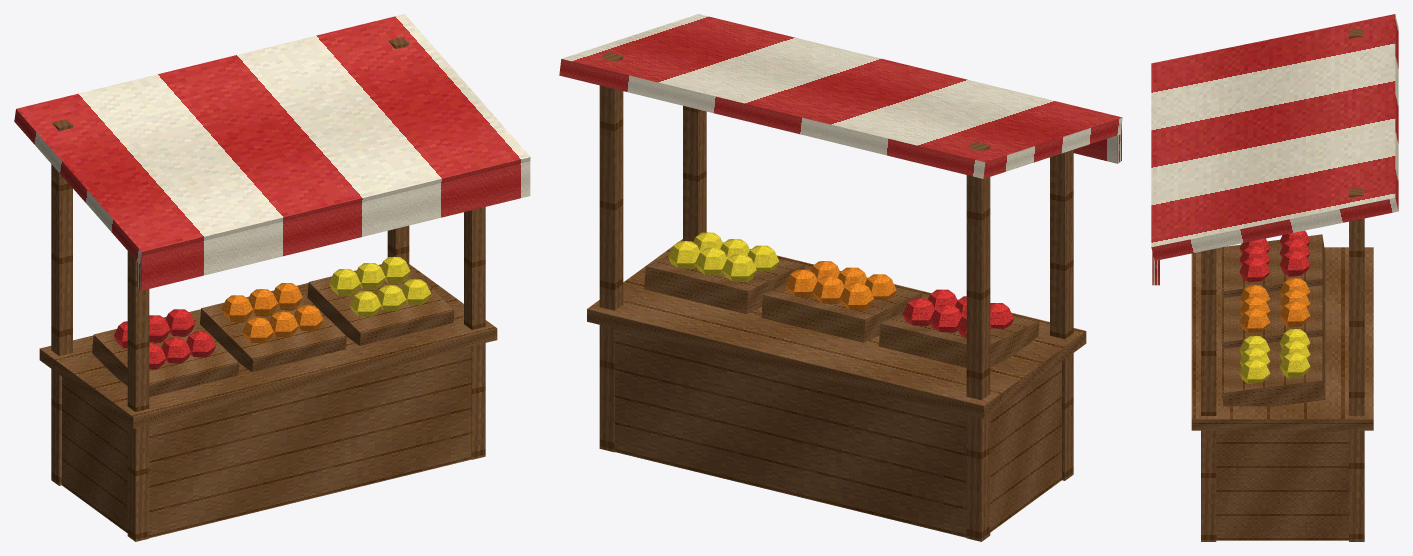
The model's file is barraca_de_frutas.glb.
3 views of the same model, side by side, from view 1: azimuth 30°, elevation 25°; view 2: azimuth 150°, elevation 25°; view 3: azimuth 270°, elevation 25° (orthographic). The views are drawn at different scales.
Visible parts, largest first — view 1: barraca_de_frutas; view 2: barraca_de_frutas; view 3: barraca_de_frutas.
Boxes of the visible parts, x1,y1,x2,y2 form: barraca_de_frutas: [14, 14, 530, 541]; barraca_de_frutas: [559, 14, 1122, 541]; barraca_de_frutas: [1151, 14, 1398, 541].
Size of the model in its own units: 2.82 by 2.53 by 1.6.
1 material, 1 textured.
